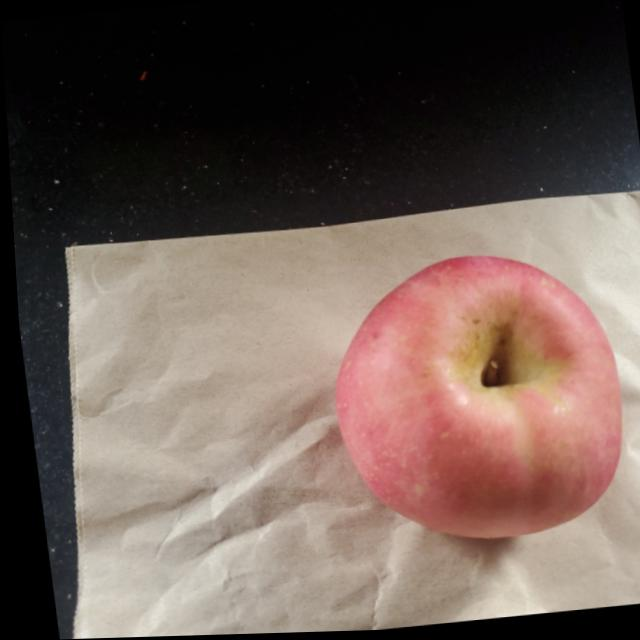apple: (313, 245, 630, 556)
